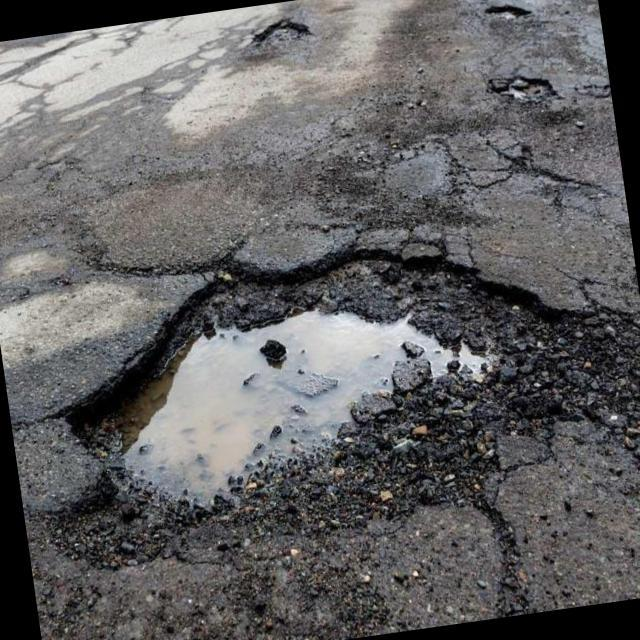Pothole: (58, 252, 632, 569)
